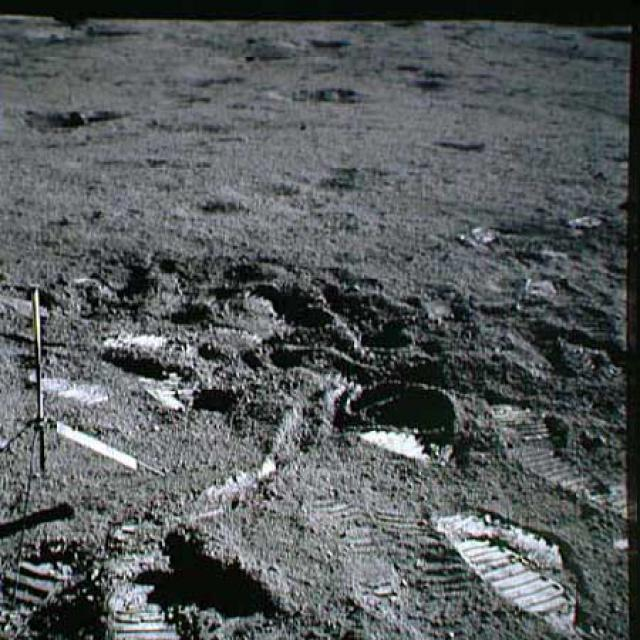artifact: (2, 273, 168, 602)
crater: (7, 101, 131, 139), (286, 84, 370, 112)
